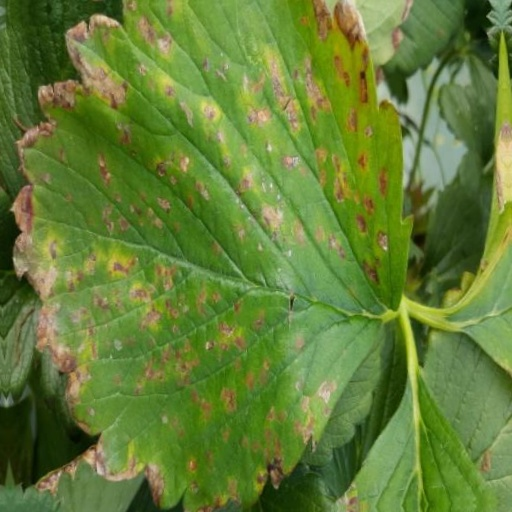Angular Leafspot: (96, 0, 505, 511)
